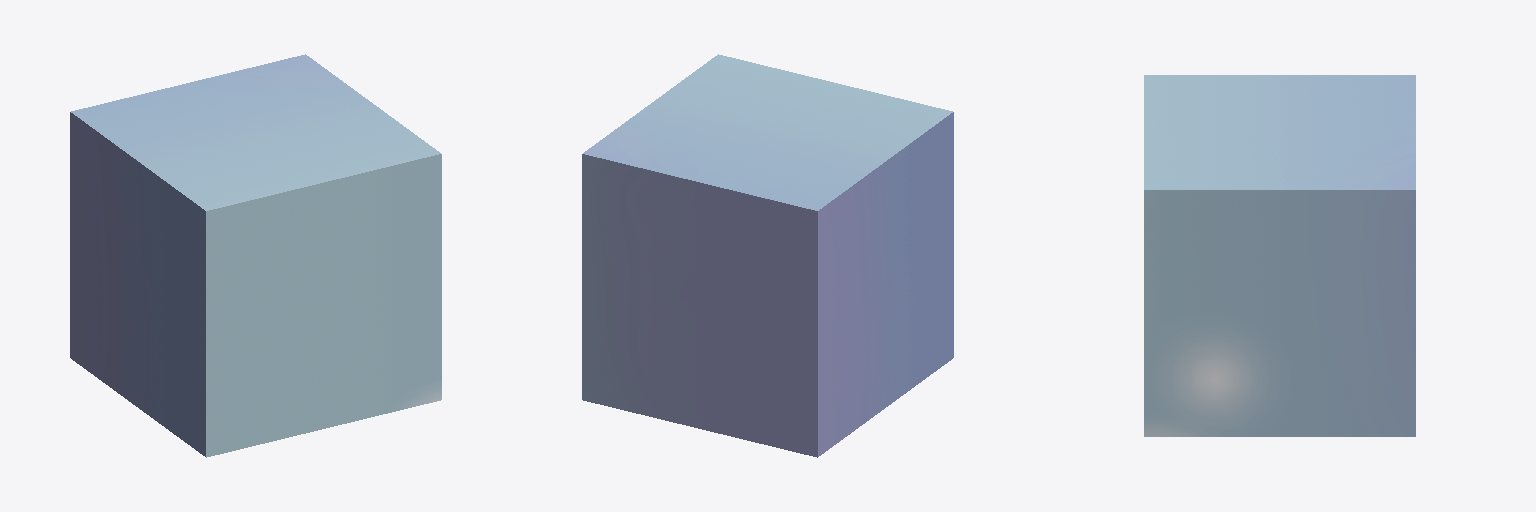
3 views of the same model, side by side, from view 1: azimuth 30°, elevation 25°; view 2: azimuth 150°, elevation 25°; view 3: azimuth 270°, elevation 25° (orthographic).
Parts seen in each view (by area): view 1: Cube; view 2: Cube; view 3: Cube.
Part boxes in pixels (bbox=[...]): Cube: bbox=[70, 54, 441, 457]; Cube: bbox=[582, 54, 953, 457]; Cube: bbox=[1144, 75, 1415, 436].
Size of the model in its own units: 2 by 2 by 2.
Materials: 1 (1 with a texture image).